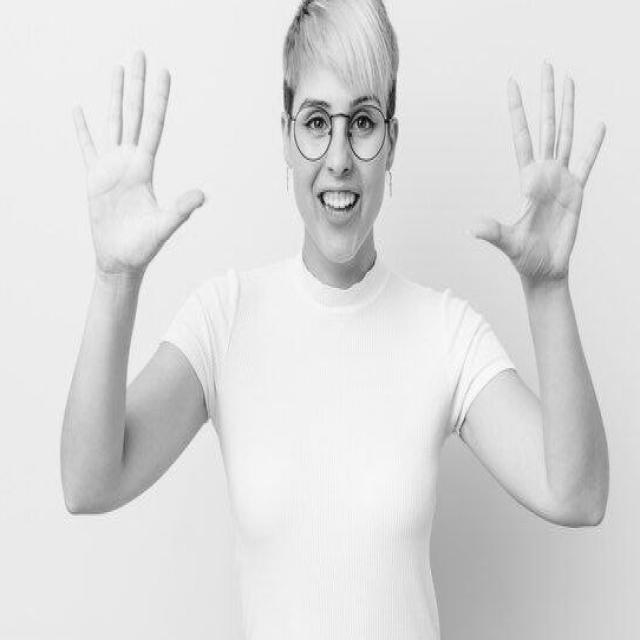stop: (66, 42, 211, 285), (464, 52, 612, 289)
